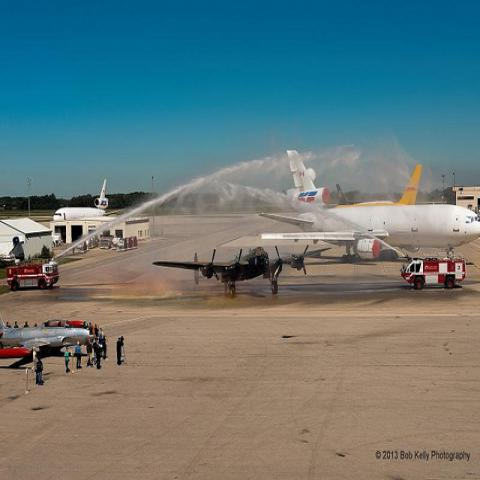truck: (399, 252, 466, 289), (6, 264, 52, 291)
